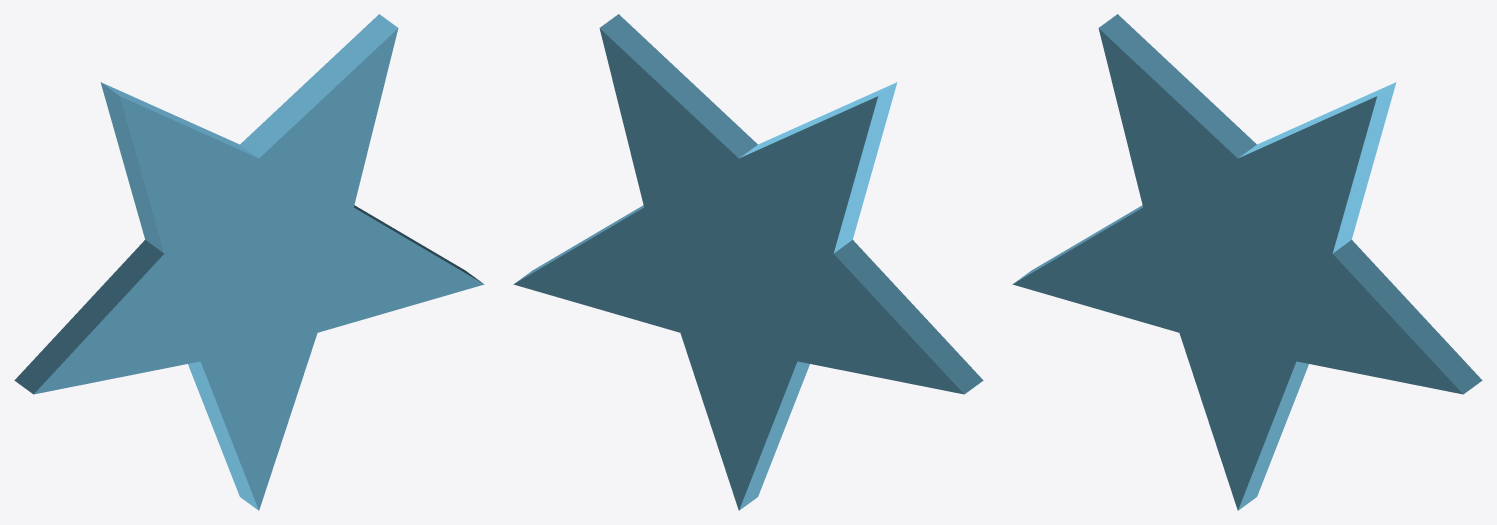
The model's file is badge_doc_hudson.glb.
3 views of the same model, side by side, from view 1: azimuth 30°, elevation 25°; view 2: azimuth 150°, elevation 25°; view 3: azimuth 330°, elevation 25° (orthographic).
Visible parts, largest first — view 1: badge; view 2: badge; view 3: badge.
Part boxes in pixels (x1,y1,x2,y2): badge: [14, 14, 484, 510]; badge: [513, 14, 983, 510]; badge: [1012, 14, 1482, 510].
Size of the model in its own units: 1.9 by 1.81 by 0.14.
